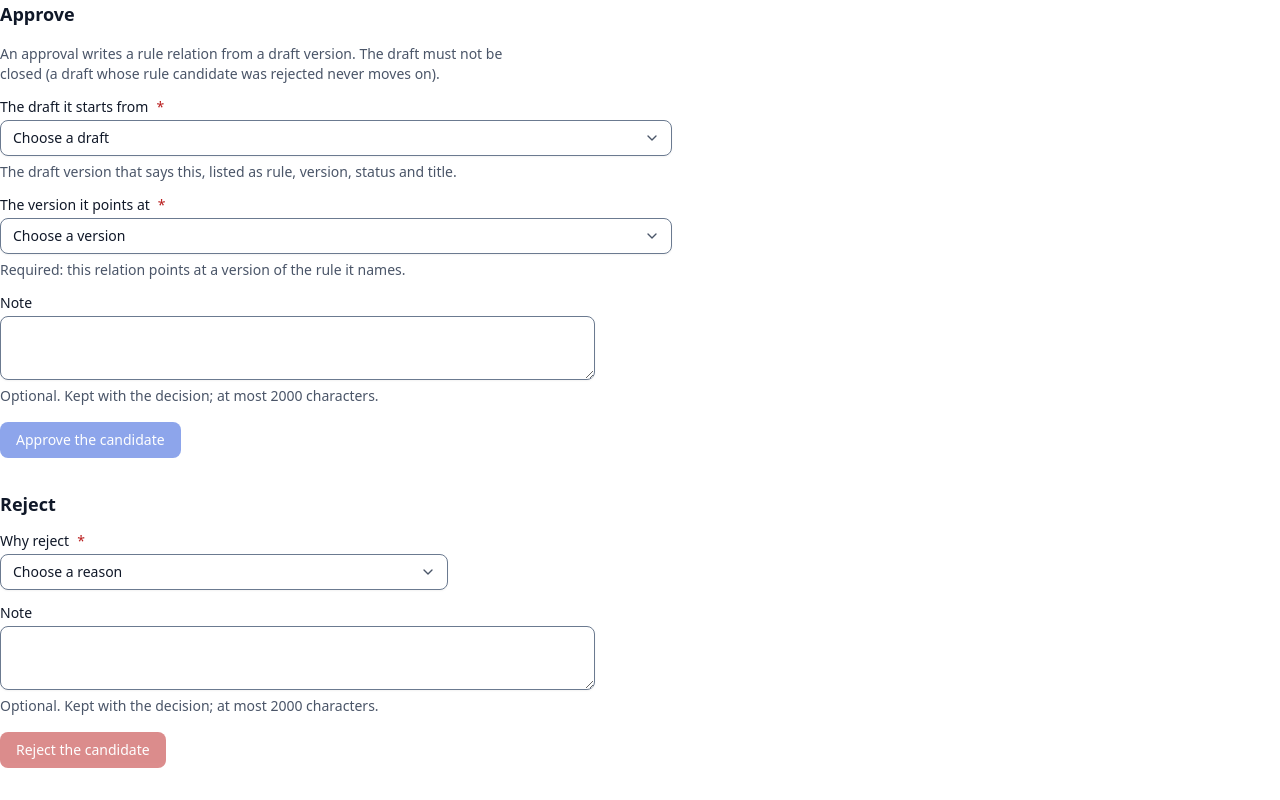
it: CandidateDecisions › shows a candidate decided before this decision as information, not an error
Select "A duplicate" in the dropdown labelled "Why reject *": (224, 572) [0,554,448,590]
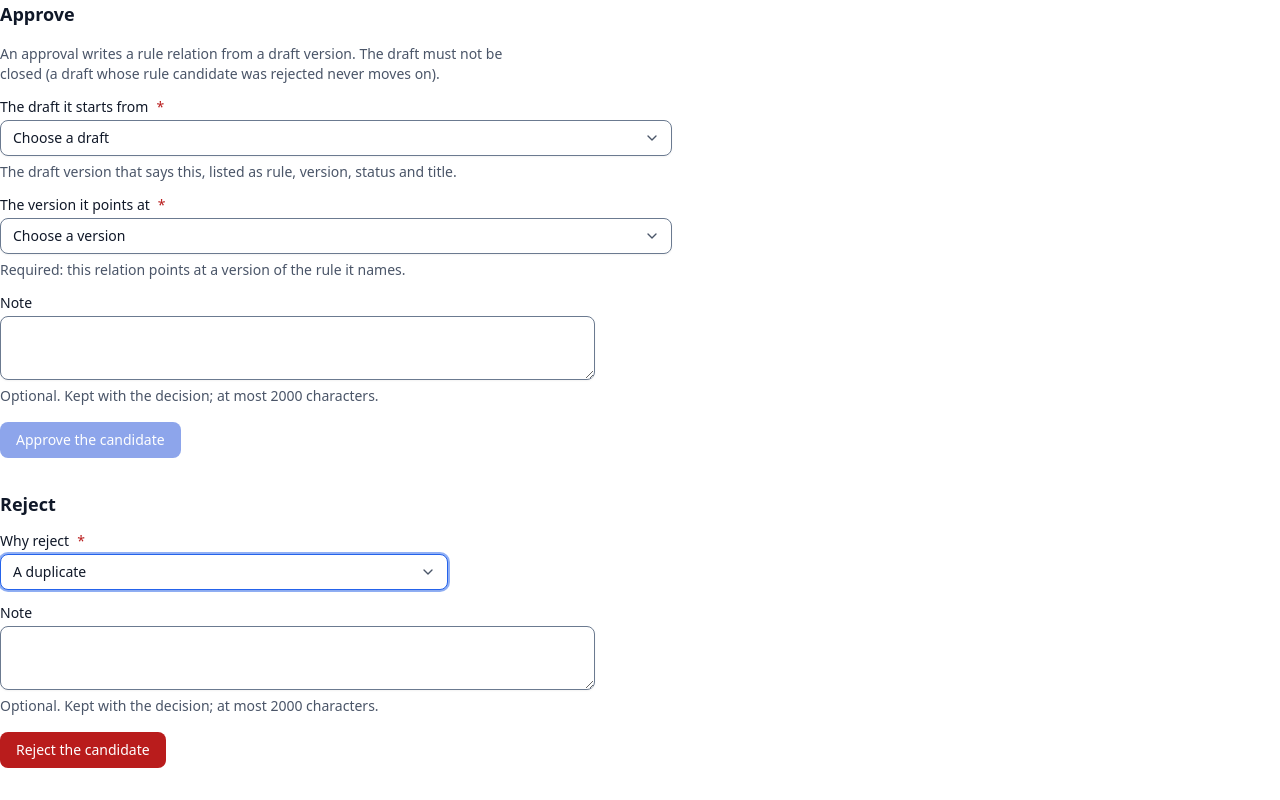
Click the button "Reject the candidate": click(83, 750) [0,732,166,768]
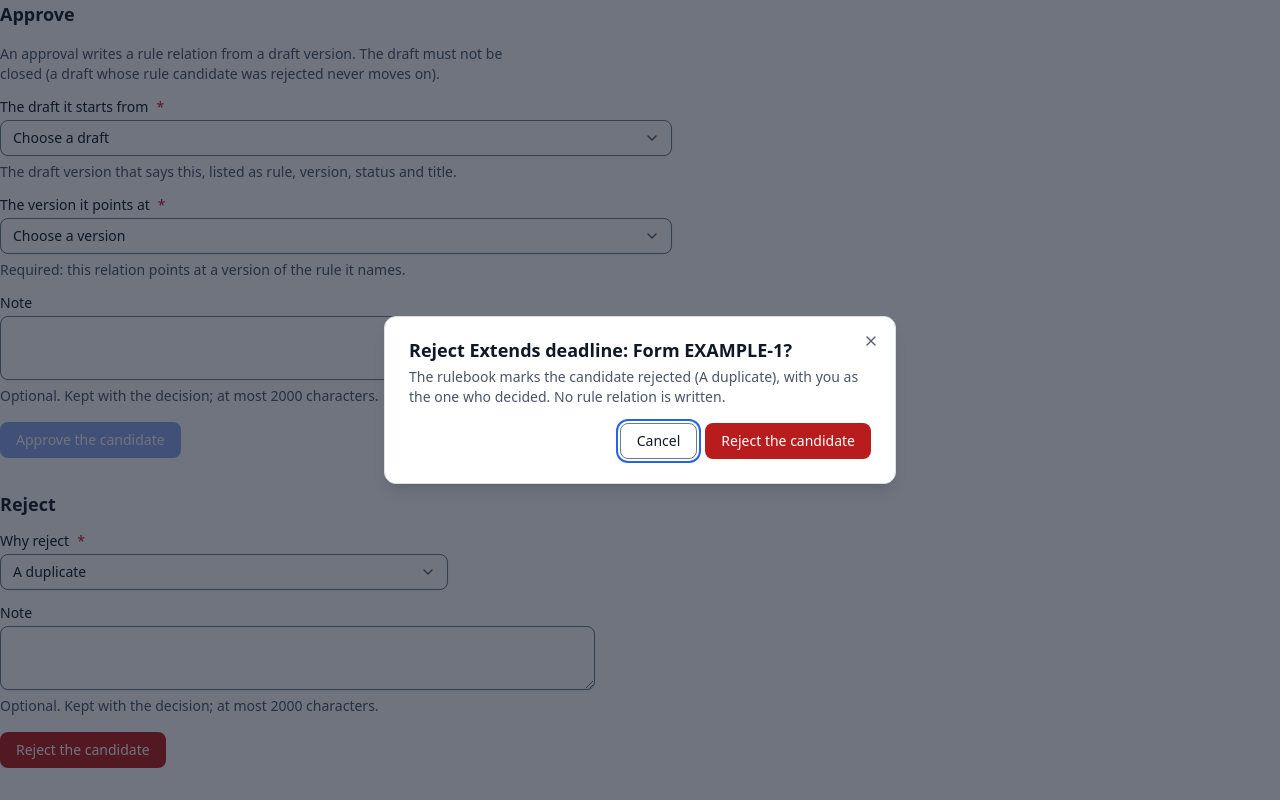
Click the button "Reject the candidate": click(788, 441) [705,423,871,459]
(page scrolled)
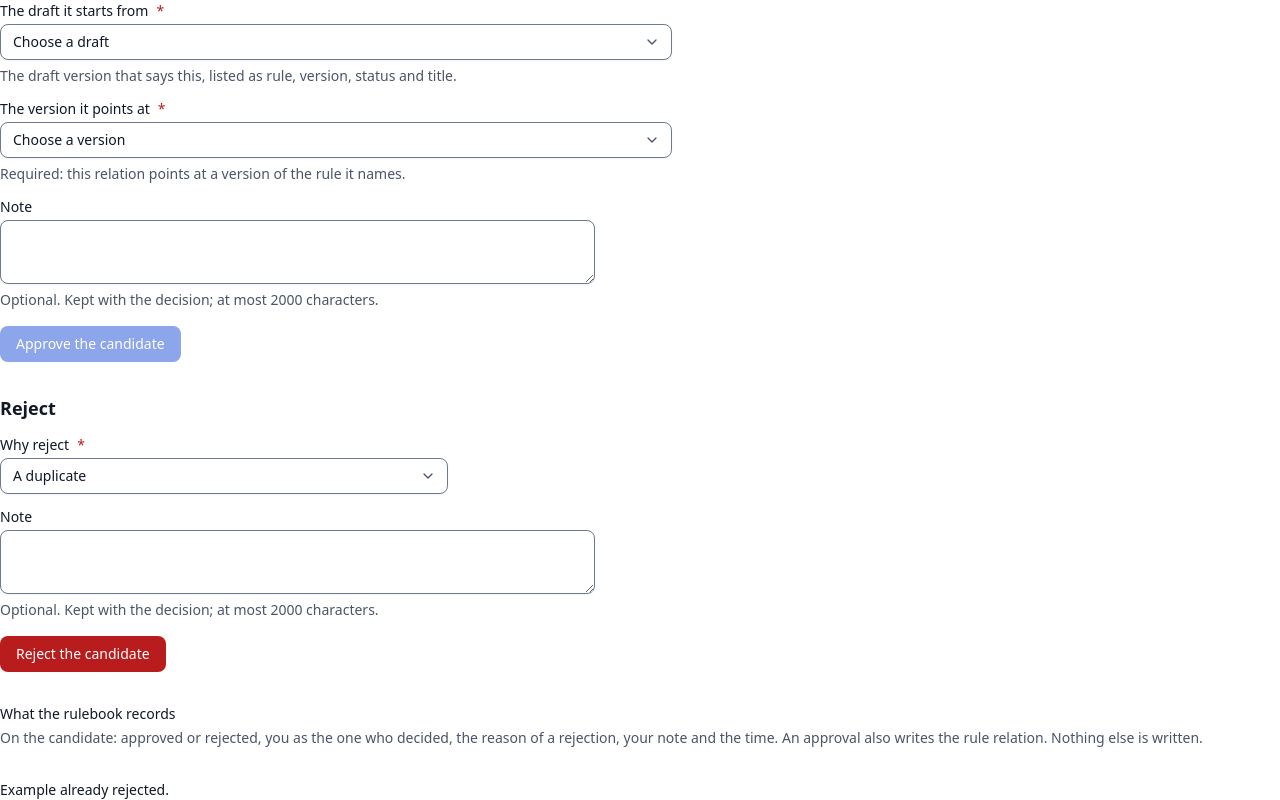
Expected: the message reads "Example already rejected.", [0,780,169,799]
